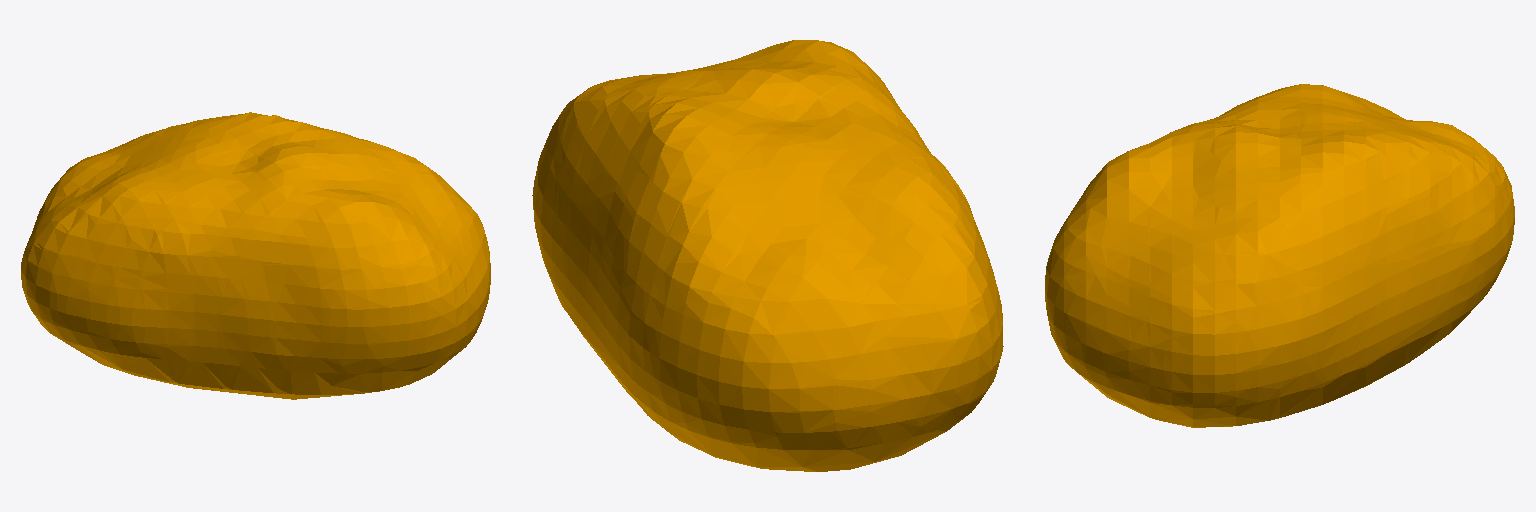
The robot description file, URDF, robot "073-a_lego_duplo":
<?xml version="1.0"?>
<robot name="073-a_lego_duplo">
  <link name="base_link">
    <inertial>
      <origin xyz="0.002765 0.001291 0.008728" rpy="0 0 0" />
      <mass value="0.064977" />
      <inertia ixx="0.00001610" ixy="0.00000527" ixz="0.00000006"
               iyy="0.00001731" iyz="-0.00000004" izz="0.00002405" />
    </inertial>
    <visual>
      <geometry><mesh filename="073-a_lego_duplo.stl" scale="1.0 1.0 1.0" /></geometry>
    </visual>
    <collision>
      <geometry><mesh filename="073-a_lego_duplo_col.obj" scale="1.0 1.0 1.0" /></geometry>
    </collision>
    <contact>
      <lateral_friction value="1.0"/>
    </contact>
  </link>
</robot>

--- Render facts (derived) ---
Views: 3 orthographic renders of the robot side by side, from view 1: azimuth 30°, elevation 25°; view 2: azimuth 150°, elevation 25°; view 3: azimuth 270°, elevation 25°.
Model 073-a_lego_duplo with 1 links and 0 joints (none), rooted at base_link, posed every joint at zero.
Visible links, largest first — view 1: base_link; view 2: base_link; view 3: base_link.
Boxes of the visible links, <box> form: base_link: <box>21,112,490,399</box>; base_link: <box>532,40,1003,471</box>; base_link: <box>1045,84,1514,427</box>.
Size in the robot's own frame: 0.065 by 0.0618 by 0.0382 metres.
1 mesh visuals loaded from 1 distinct referenced files (1 binary STL).
